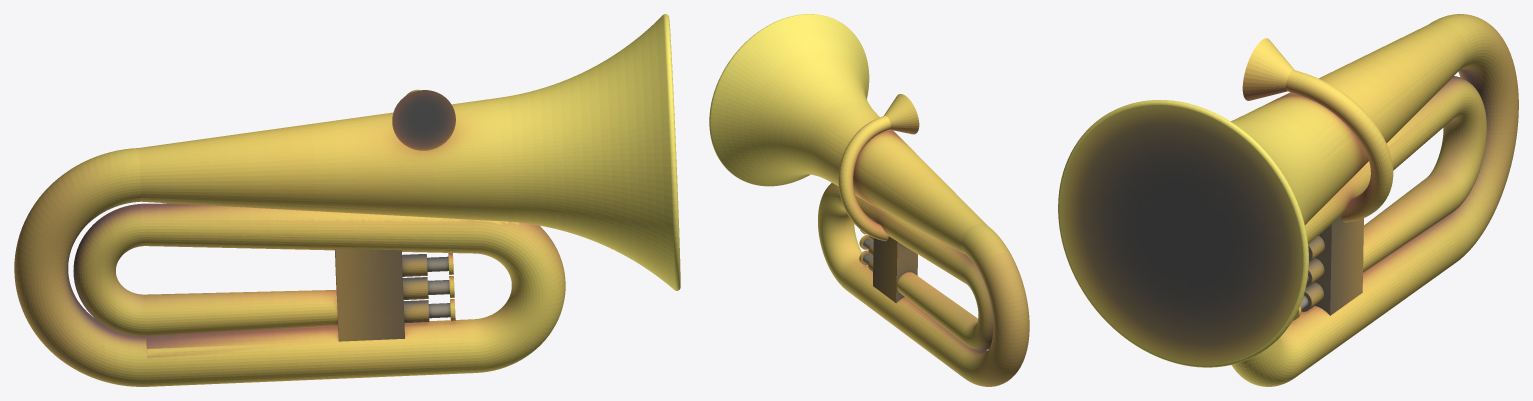
The model's file is tuba.glb.
The picture shows the model from 3 angles, left to right: view 1: azimuth 30°, elevation 25°; view 2: azimuth 150°, elevation 25°; view 3: azimuth 270°, elevation 25°; orthographic projection. The views are drawn at different scales.
Bounding box in the file's own units: 0.4445 × 0.2656 × 0.3078.
1 material, 1 textured.
